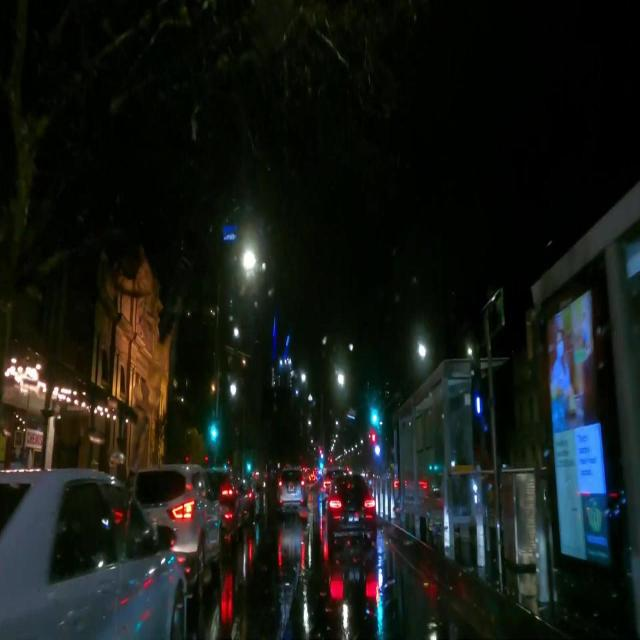Car: (140, 463, 218, 593), (328, 471, 375, 552), (274, 467, 306, 513)
